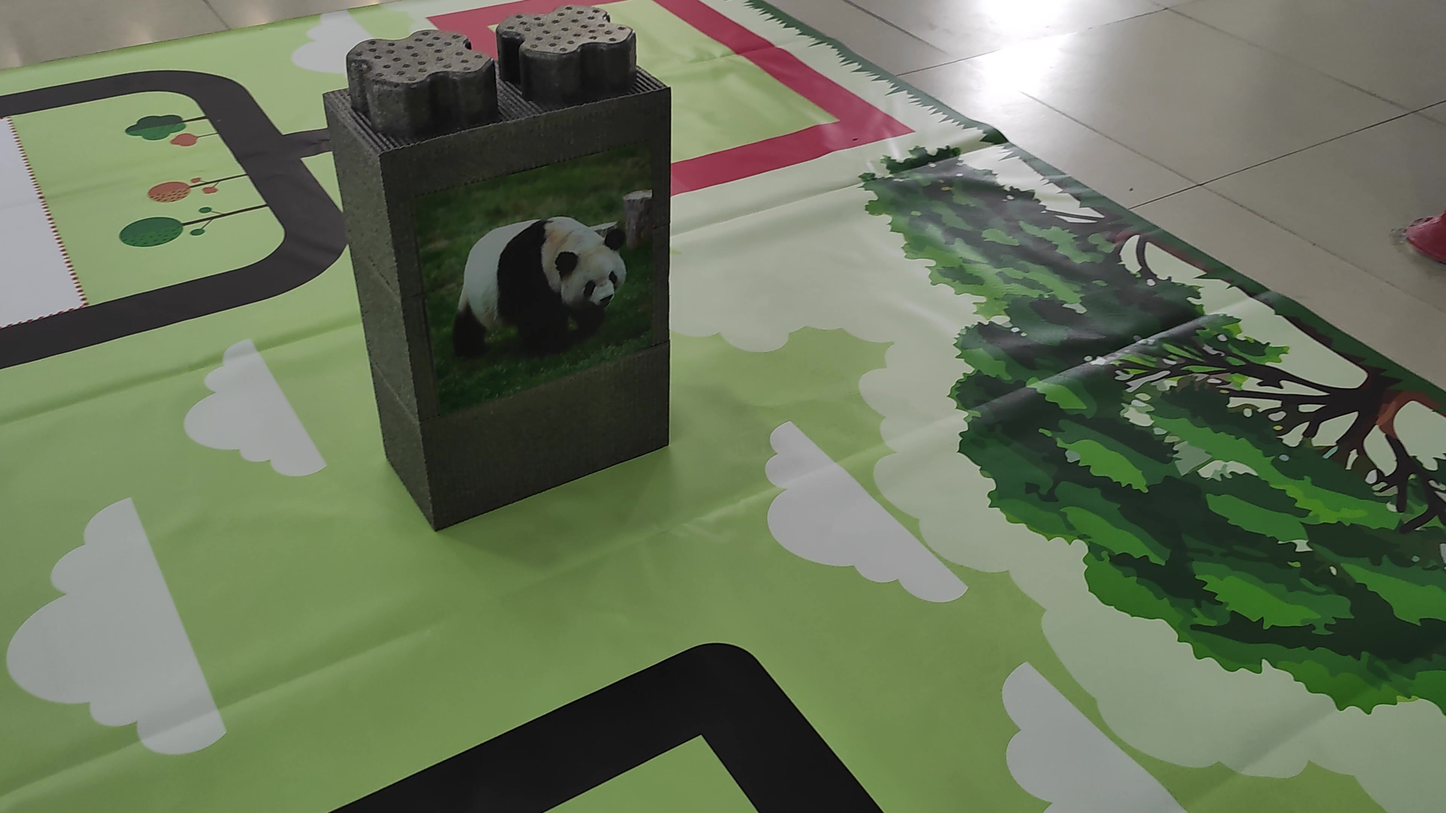panda: (424, 196, 662, 345)
